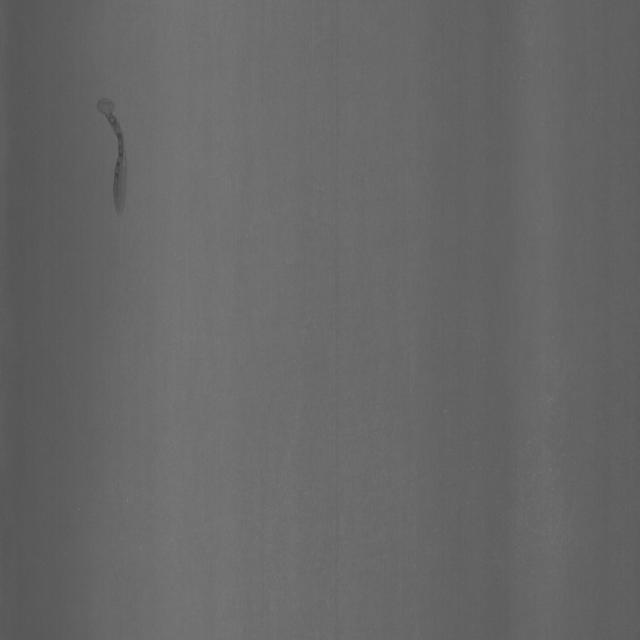water_spot: (94, 85, 140, 243)
